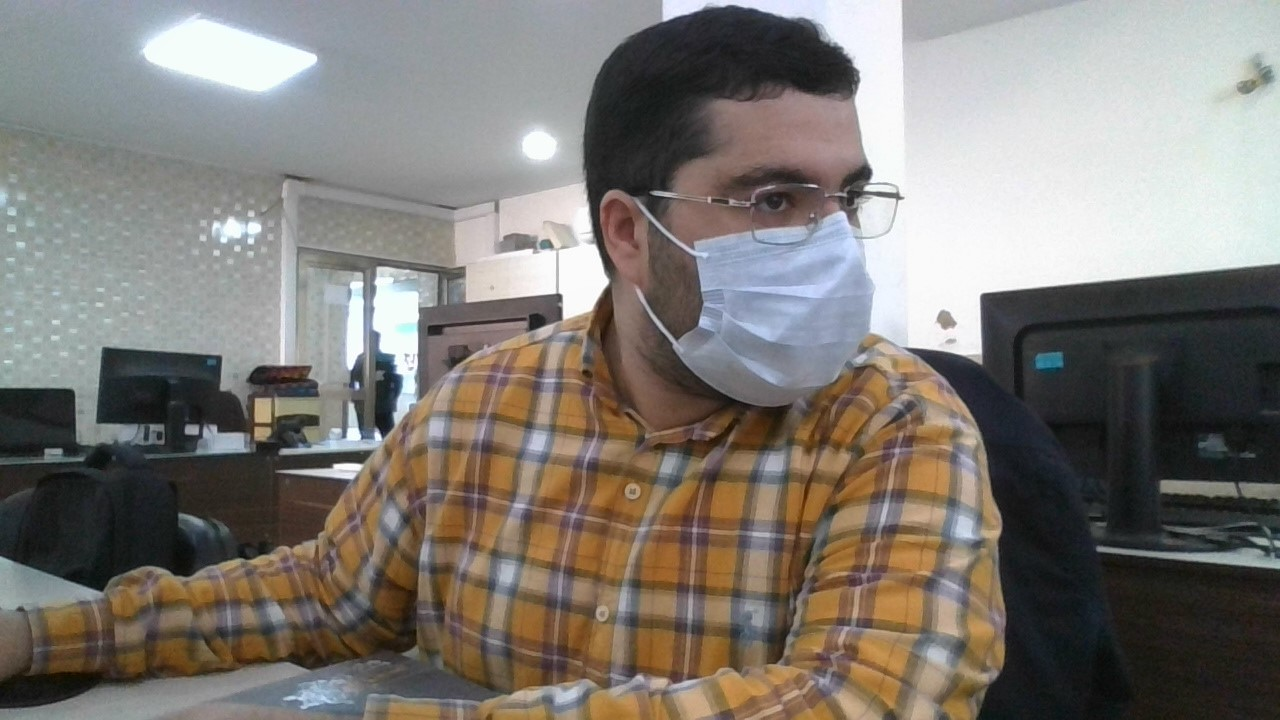Mask: (631, 199, 876, 411)
